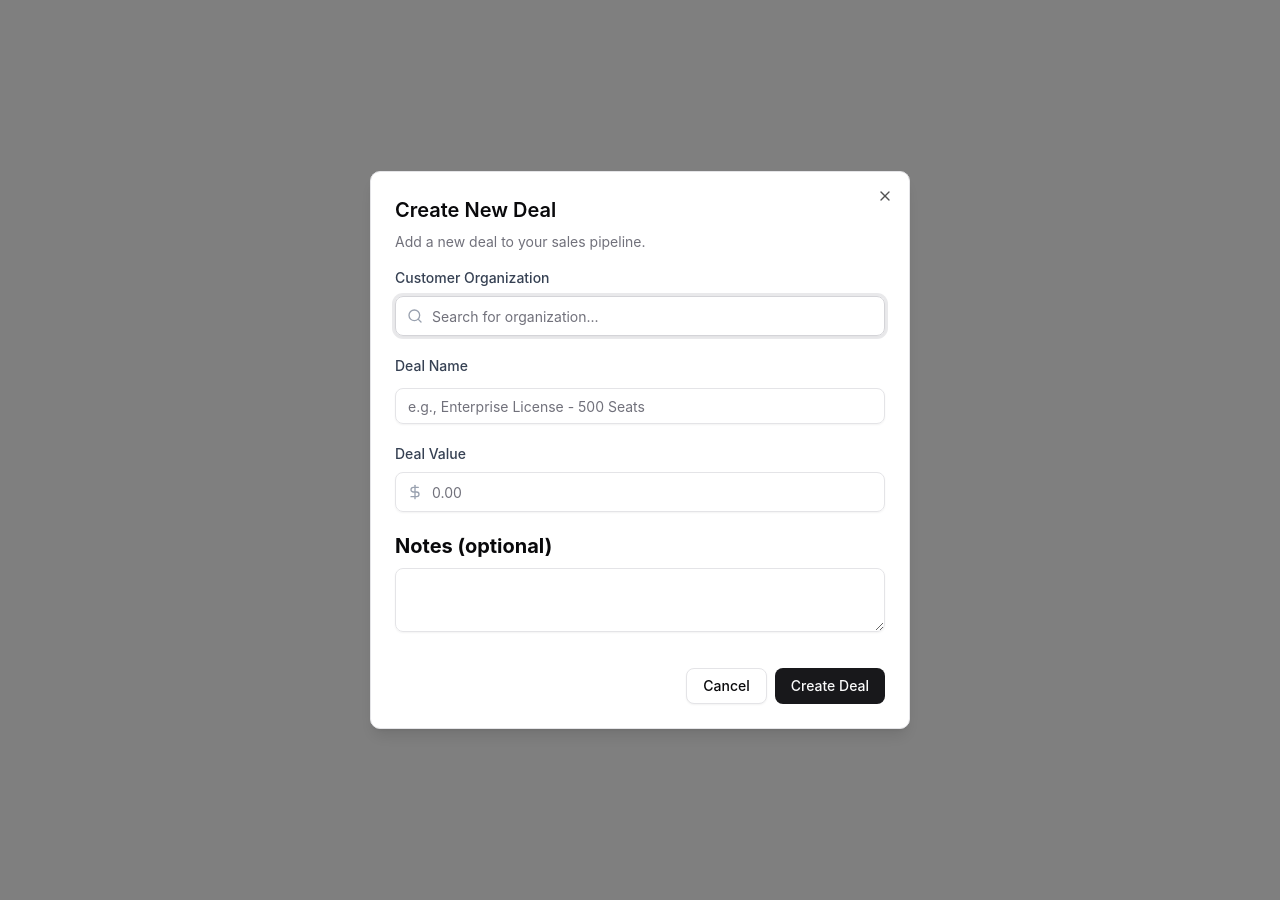
Scenario: CreateDealDialog › Organization Selection › should show selected organization display
In the field with placeholder "Search for organization...": (640,316) [395,296,885,336], type "Acme"
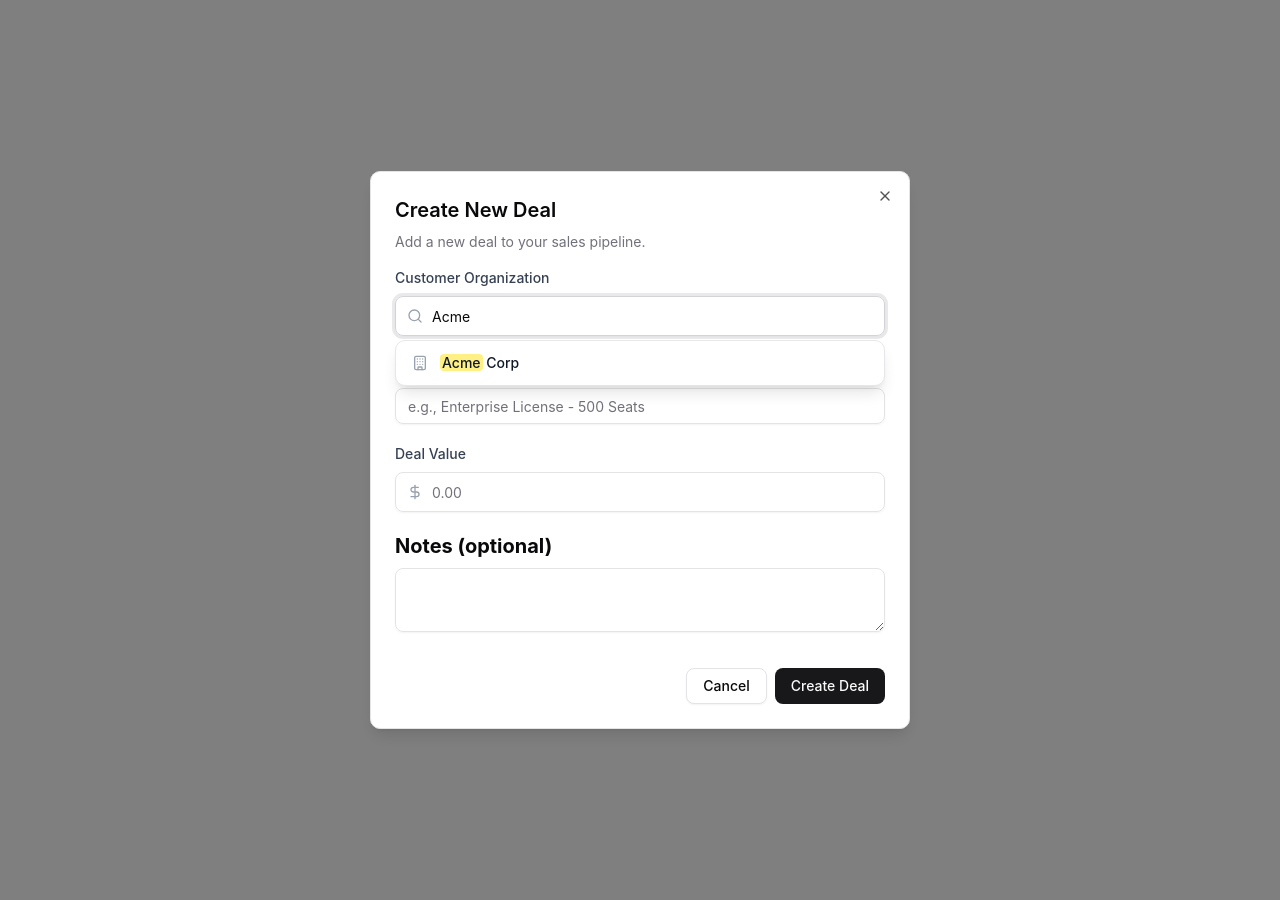
Now the button "Acme Corp" is shown
Click the button "Acme Corp": (461,362) [396,341,884,385]
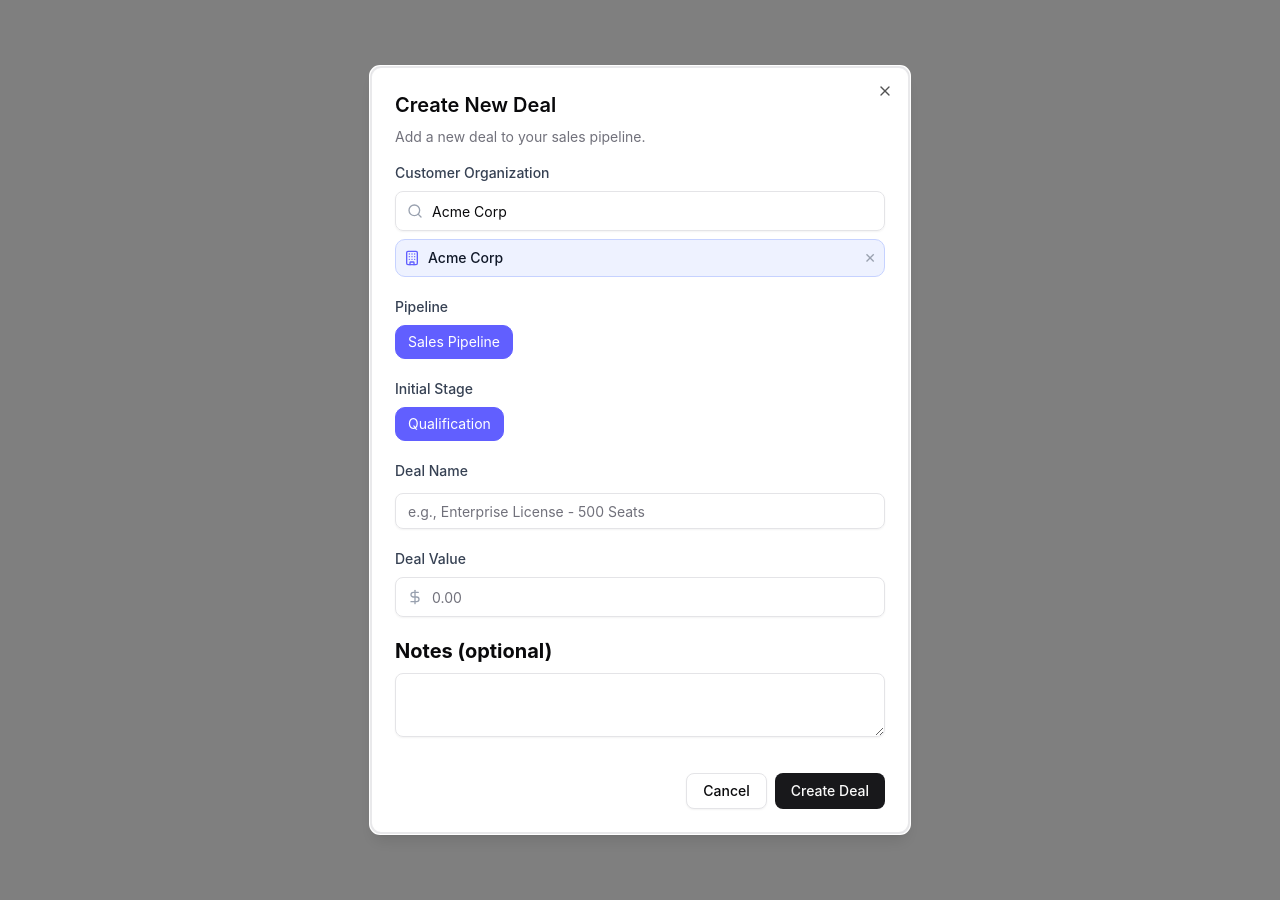
Now the text "Acme Corp" is shown, box [428,249,503,266]
